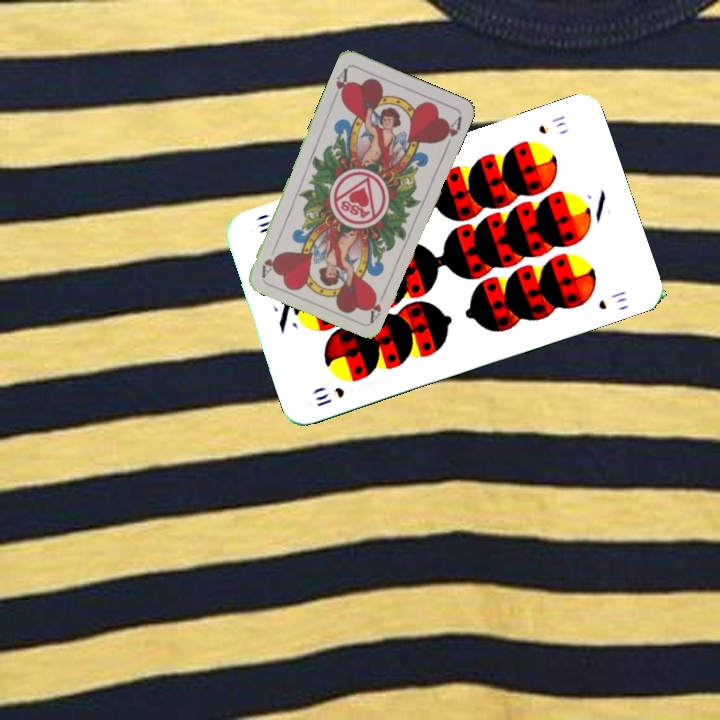HA: (365, 285, 389, 324), (331, 64, 352, 104)
S10: (311, 383, 347, 409), (534, 111, 569, 137)
